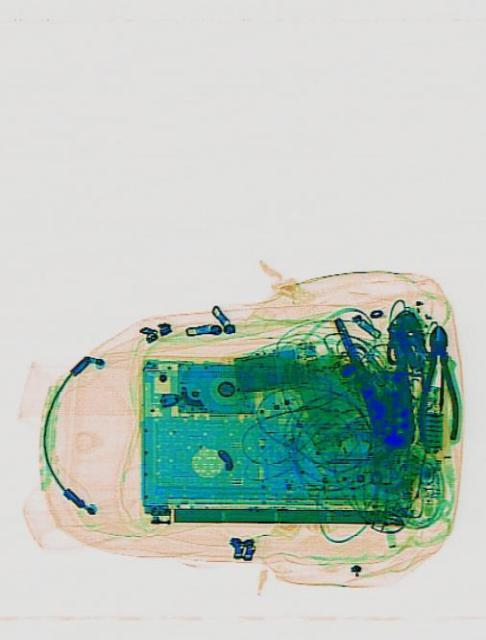Pliers: (332, 294, 429, 458), (412, 324, 457, 442)
